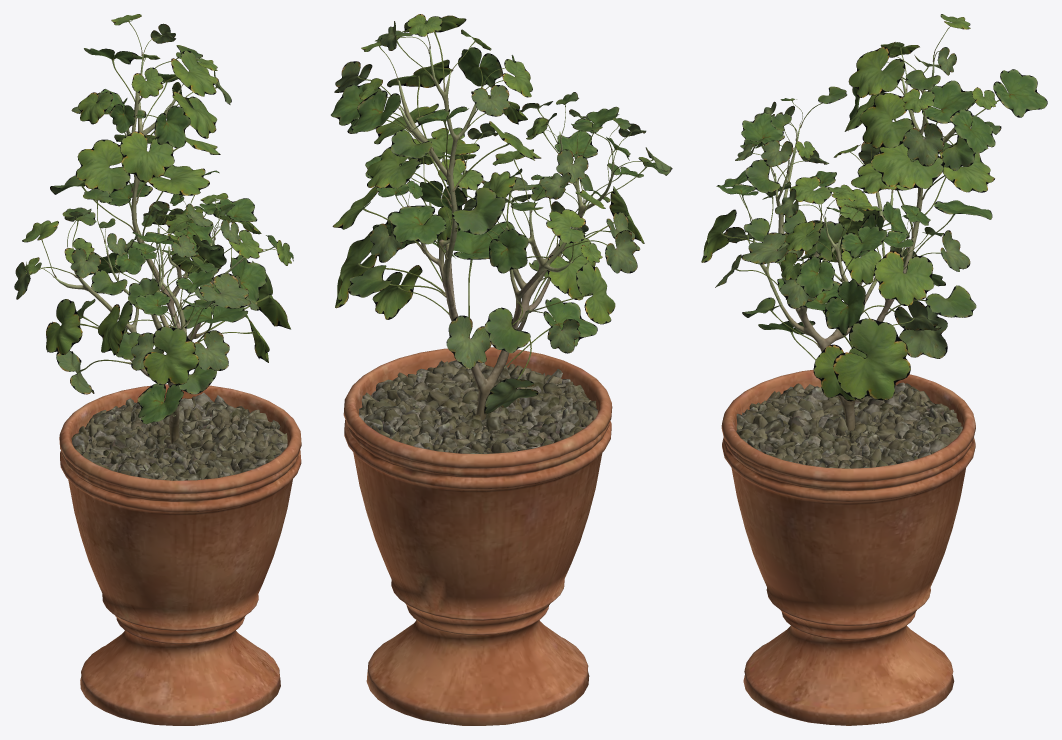
The model's file is potted_plant_01.glb.
The picture shows the model from 3 angles, left to right: view 1: azimuth 30°, elevation 25°; view 2: azimuth 150°, elevation 25°; view 3: azimuth 270°, elevation 25°; orthographic projection. The views are drawn at different scales.
Parts seen in each view (by area): view 1: potted_plant_01_pot, potted_plant_01_leaves, potted_plant_01_pebbles, potted_plant_01_stem; view 2: potted_plant_01_pot, potted_plant_01_leaves, potted_plant_01_pebbles, potted_plant_01_stem; view 3: potted_plant_01_pot, potted_plant_01_leaves, potted_plant_01_pebbles, potted_plant_01_stem.
Part boxes in pixels (x1=…): potted_plant_01_pot: x1=59, y1=384, x2=301, y2=725; potted_plant_01_leaves: x1=14, y1=14, x2=293, y2=424; potted_plant_01_pebbles: x1=71, y1=392, x2=287, y2=480; potted_plant_01_stem: x1=54, y1=54, x2=244, y2=443; potted_plant_01_pot: x1=343, y1=347, x2=612, y2=725; potted_plant_01_leaves: x1=331, y1=14, x2=672, y2=414; potted_plant_01_pebbles: x1=359, y1=360, x2=597, y2=453; potted_plant_01_stem: x1=398, y1=48, x2=613, y2=420; potted_plant_01_pot: x1=721, y1=369, x2=975, y2=725; potted_plant_01_leaves: x1=701, y1=14, x2=1047, y2=401; potted_plant_01_pebbles: x1=736, y1=382, x2=962, y2=468; potted_plant_01_stem: x1=752, y1=55, x2=967, y2=431.
Size of the model in its own units: 0.5874 by 1.34 by 0.6336.
2 materials, 2 textured.
